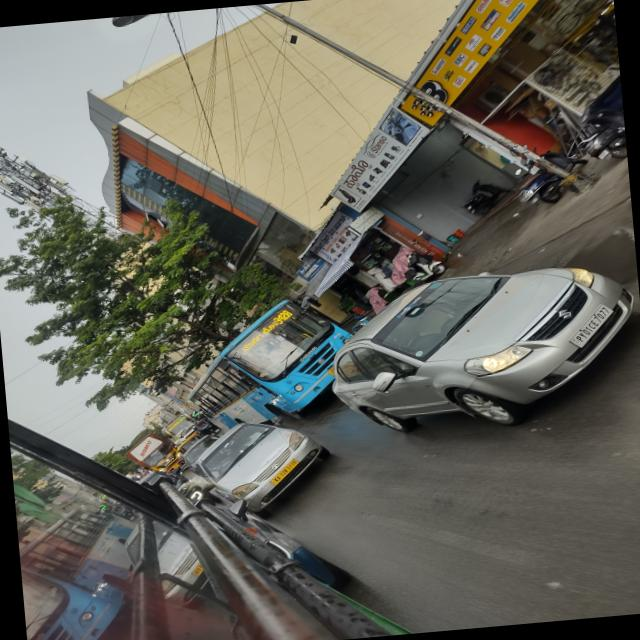bus: (174, 292, 364, 432)
display: (237, 308, 294, 353)
dnumber: (272, 309, 292, 325)
